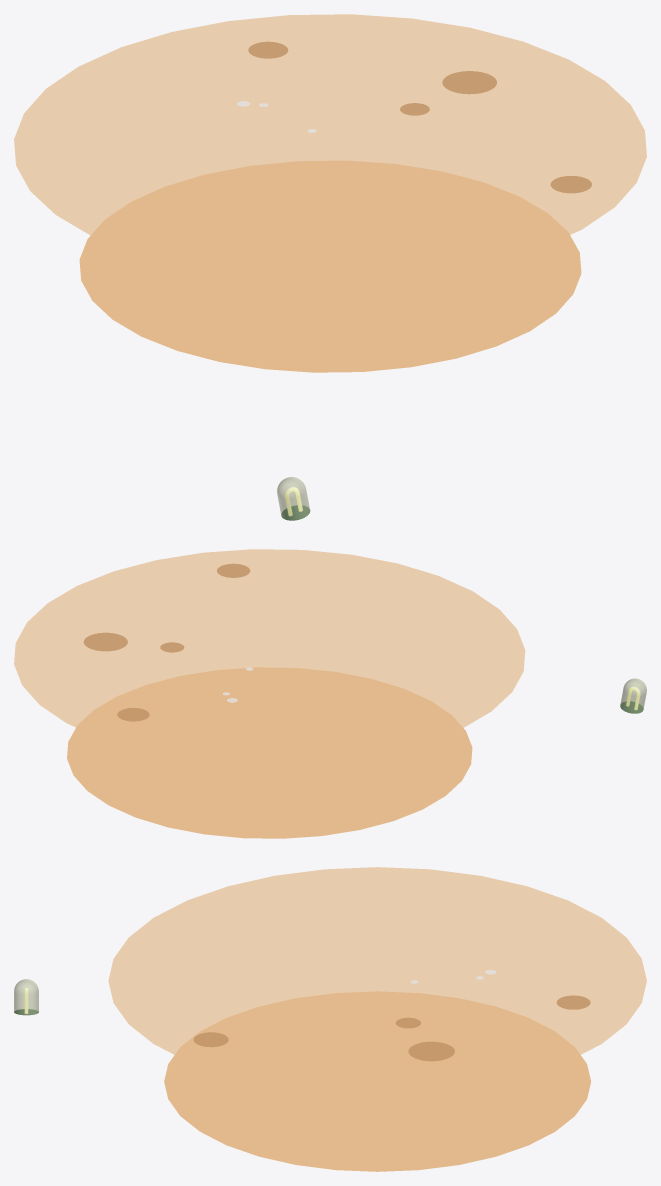
The model's file is ramen2.glb.
3 views of the same model, one above another, from view 1: azimuth 30°, elevation 25°; view 2: azimuth 150°, elevation 25°; view 3: azimuth 270°, elevation 25° (orthographic). The views are drawn at different scales.
Parts seen in each view (by area): view 1: Agua, AguaFondo, Lampara.001, Agua.003; view 2: Agua, AguaFondo, Lampara.001, Agua.003; view 3: Agua, AguaFondo, Lampara.001, Agua.003.
Part boxes in pixels (bbox=[...]): Agua: bbox=[14, 14, 646, 281]; AguaFondo: bbox=[79, 161, 581, 372]; Lampara.001: bbox=[277, 477, 310, 520]; Agua.003: bbox=[442, 71, 496, 94]; Agua: bbox=[14, 549, 525, 765]; AguaFondo: bbox=[67, 667, 472, 838]; Lampara.001: bbox=[620, 678, 646, 713]; Agua.003: bbox=[83, 632, 127, 651]; Agua: bbox=[108, 867, 646, 1094]; AguaFondo: bbox=[164, 991, 591, 1171]; Lampara.001: bbox=[14, 979, 38, 1015]; Agua.003: bbox=[408, 1041, 454, 1061].
Size of the model in its own units: 1.42 by 0.3899 by 1.67.
